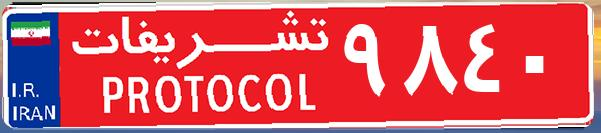0: (520, 20, 580, 115)
4: (460, 20, 520, 115)
8: (400, 20, 460, 115)
9: (340, 20, 400, 115)
تشریفات: (60, 8, 340, 125)
